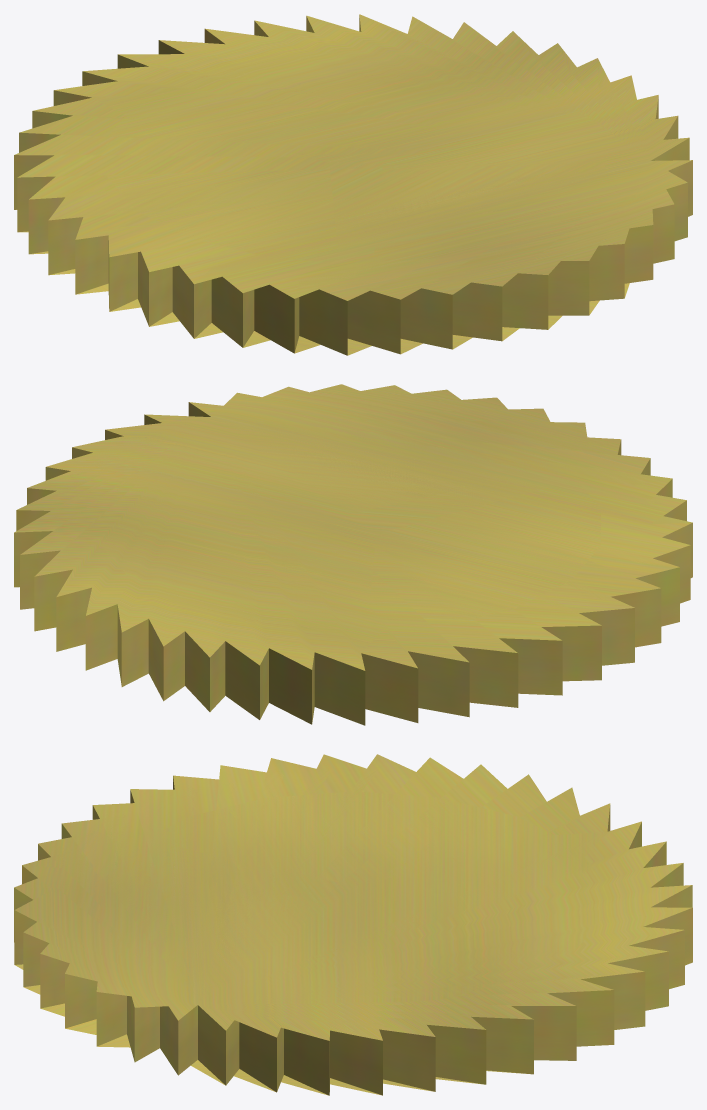
The model's file is ClockAngle3Spoke040.fbx.
The picture shows the model from 3 angles, top to bottom: view 1: azimuth 30°, elevation 25°; view 2: azimuth 150°, elevation 25°; view 3: azimuth 270°, elevation 25°; orthographic projection.
Parts seen in each view (by area): view 1: ClockAngle3Spoke040; view 2: ClockAngle3Spoke040; view 3: ClockAngle3Spoke040.
Part boxes in pixels (<box>): ClockAngle3Spoke040: <box>14,14,692,355</box>; ClockAngle3Spoke040: <box>14,384,692,725</box>; ClockAngle3Spoke040: <box>14,754,692,1095</box>.
Size of the model in its own units: 221 by 19.69 by 221.
